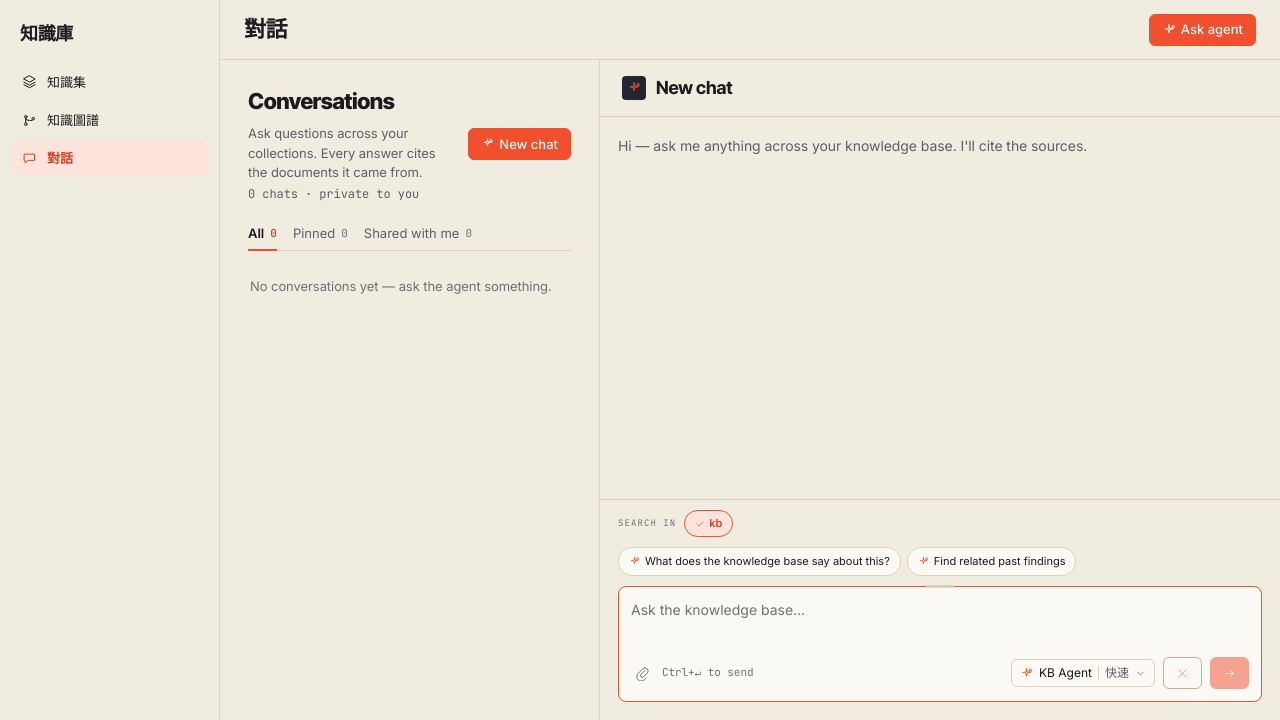
Test: KB routes › gives a brand-new thread its header the moment it exists
In the text box with placeholder "Ask the knowledge base…": [940, 621] box top-left (631, 599), bottom-right (1249, 643), type "why did zone three drift?"
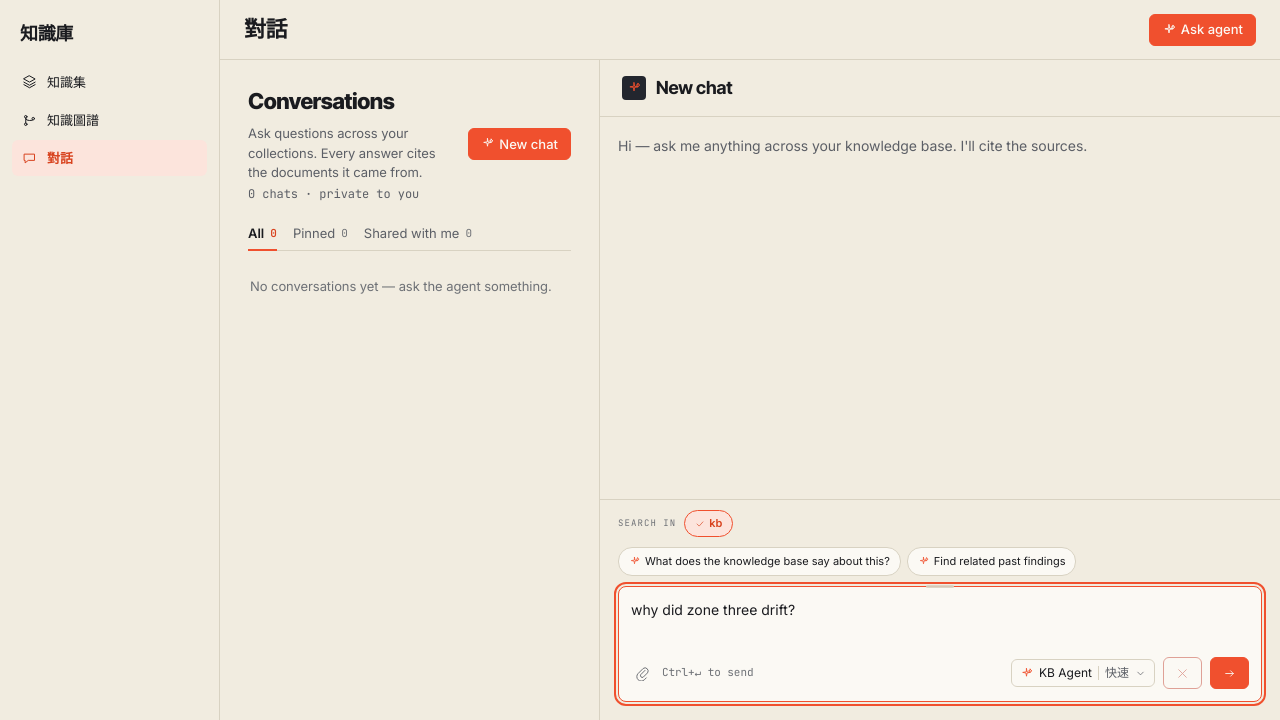
Click the button named "send": [1230, 673] box top-left (1210, 657), bottom-right (1249, 689)
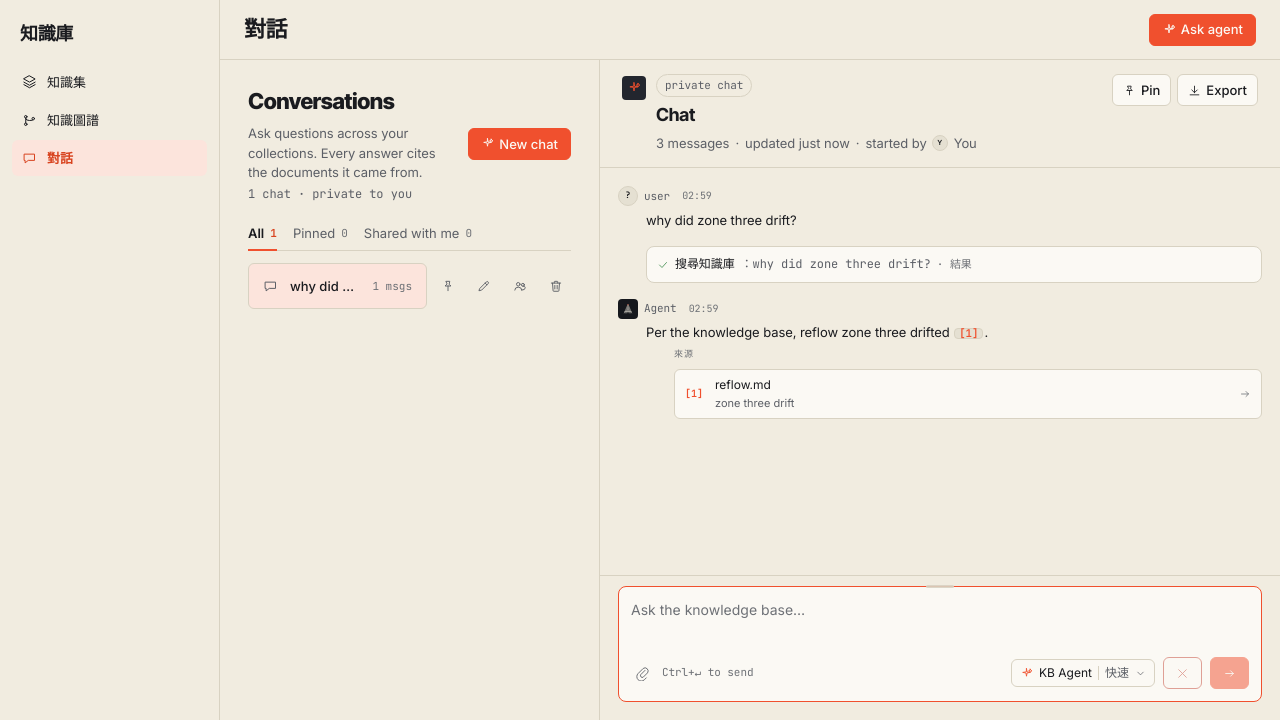
Expected: the button "Export" is shown, top-left (1177, 74), bottom-right (1258, 106)
Expected: the button with aria-label "pin conversation" is shown, top-left (1112, 74), bottom-right (1171, 106)
Expected: the text "3 messages" is shown, top-left (656, 133), bottom-right (729, 153)
